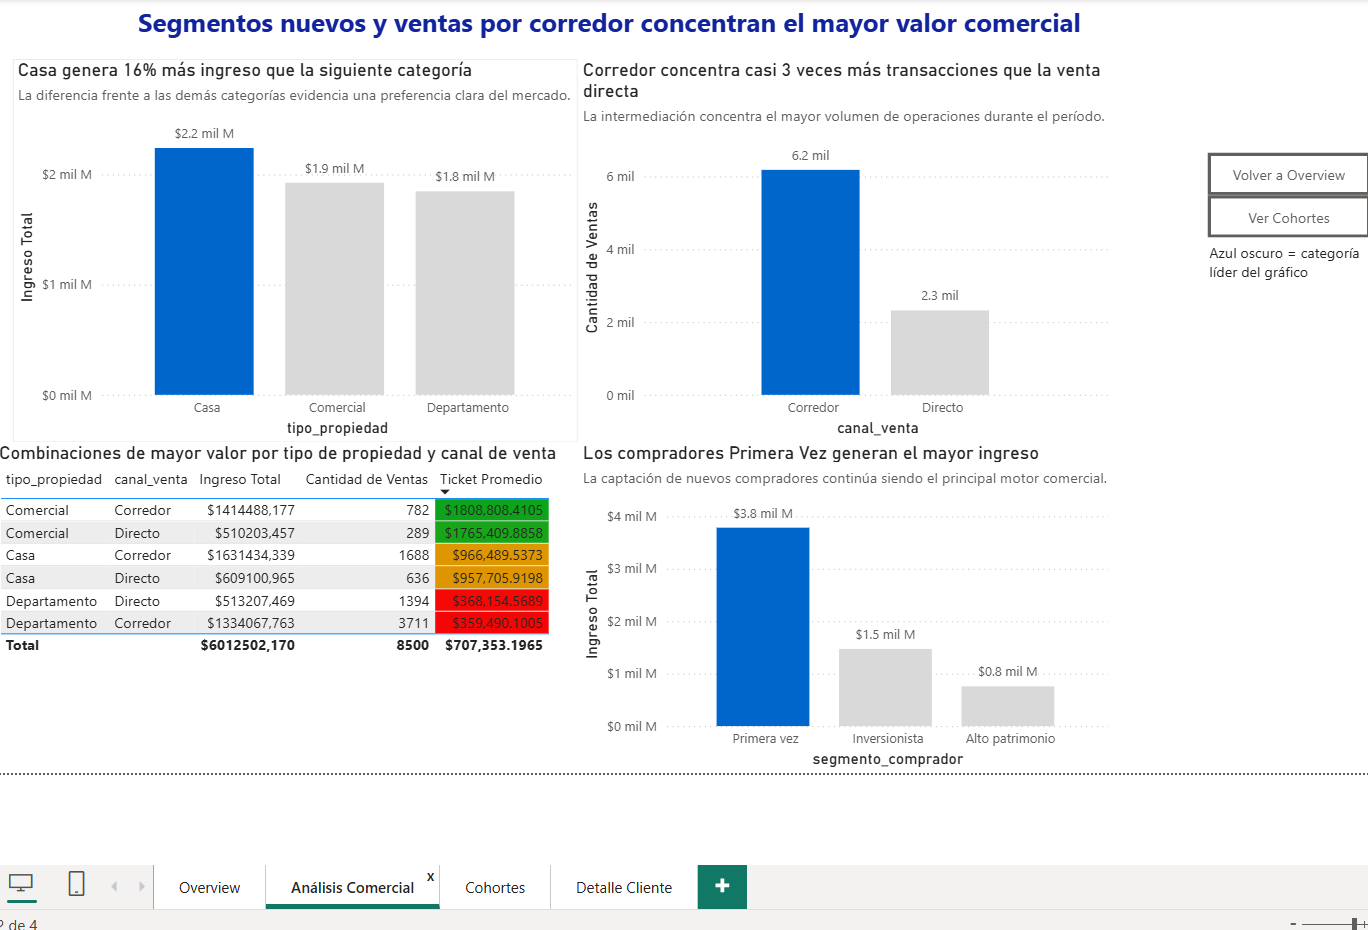

Layout of this report page (visuals, bound fields, positions):
{"tool":"powerbi","page":{"name":"Análisis Comercial","canvas":[1280,720],"ordinal":1},"visuals":[{"type":"clusteredColumnChart","title":"Casa genera 16% más ingreso que la siguiente categoría","fields":{"Y":["hecho_ventas_propiedades.Ingreso Total"],"Category":["dim_propiedades.tipo_propiedad"]},"box":[17.4,55.8,525.6,355.8],"z":0},{"type":"clusteredColumnChart","title":"Corredor concentra casi 3 veces más transacciones que la venta directa","fields":{"Category":["hecho_ventas_propiedades.canal_venta"],"Y":["hecho_ventas_propiedades.Cantidad de Ventas"]},"box":[543,55.8,501.2,355.8],"z":1000},{"type":"clusteredColumnChart","title":"Los compradores Primera Vez generan el mayor ingreso","fields":{"Category":["dim_clientes.segmento_comprador"],"Y":["hecho_ventas_propiedades.Ingreso Total"]},"box":[543,411.6,498.8,308.1],"z":2000},{"type":"tableEx","title":"Combinaciones de mayor valor por tipo de propiedad y canal de venta","fields":{"Values":["dim_propiedades.tipo_propiedad","hecho_ventas_propiedades.canal_venta","hecho_ventas_propiedades.Ingreso Total","hecho_ventas_propiedades.Cantidad de Ventas","hecho_ventas_propiedades.Ticket Promedio"]},"box":[0,411.6,543,308.1],"z":3000},{"type":"actionButton","box":[1129.1,182.6,151.2,39.5],"z":4000},{"type":"actionButton","box":[1129.1,143,151.2,39.5],"z":5000},{"type":"textbox","box":[129.1,0,1000,55.8],"z":6000},{"type":"textbox","box":[1125.6,222.1,154.7,51.2],"z":7000}]}

Visuals, with their boxes on the page's 1280x720 design canvas (x1, y1, x2, y2). These are canvas units, not pixel positions in the 1368x930 screenshot, which may show the page scaled, cropped or inside an application window:
"Casa genera 16% más ingreso que la siguiente categoría" clusteredColumnChart: (left=17, top=56, right=543, bottom=412)
"Corredor concentra casi 3 veces más transacciones que la venta directa" clusteredColumnChart: (left=543, top=56, right=1044, bottom=412)
"Los compradores Primera Vez generan el mayor ingreso" clusteredColumnChart: (left=543, top=412, right=1042, bottom=720)
"Combinaciones de mayor valor por tipo de propiedad y canal de venta" tableEx: (left=0, top=412, right=543, bottom=720)
actionButton: (left=1129, top=183, right=1280, bottom=222)
actionButton: (left=1129, top=143, right=1280, bottom=182)
textbox: (left=129, top=0, right=1129, bottom=56)
textbox: (left=1126, top=222, right=1280, bottom=273)
